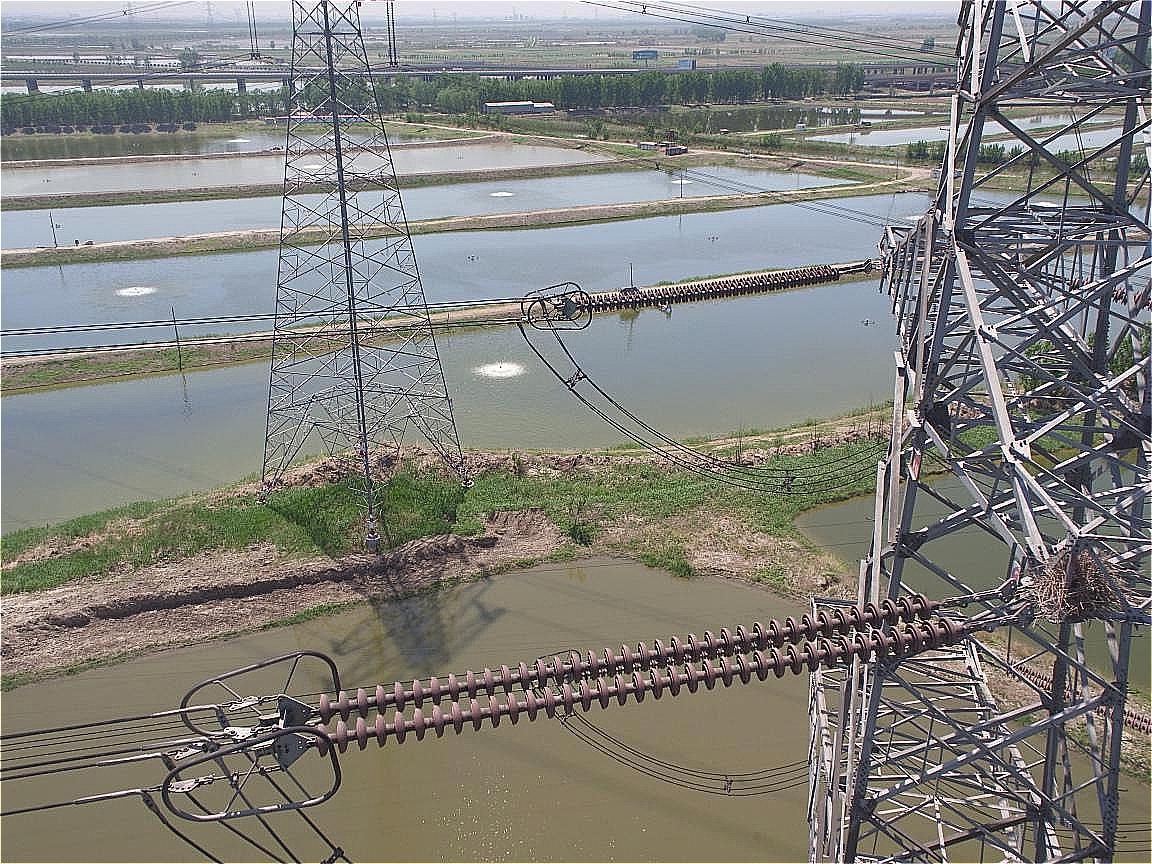insultor1: (315, 593, 956, 756)
insultor2: (580, 263, 842, 316)
